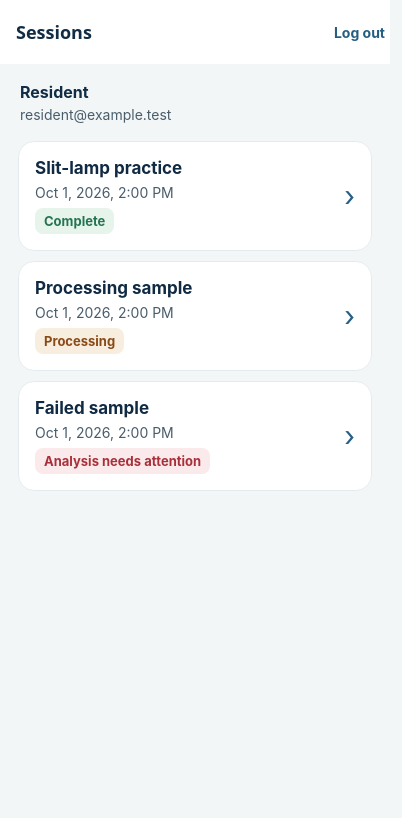
Test: requests and displays a selected frame only when remote media is enabled
Later steps or results of the test are not shown.
Click the text "Slit-lamp practice".
click(109, 168)  # box [35, 158, 182, 178]
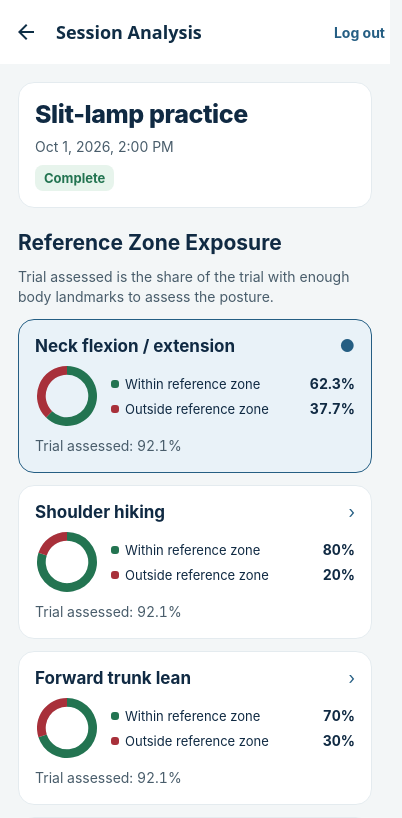
Result: the heading "Reference Zone Exposure" is shown at [18, 230, 282, 255]
